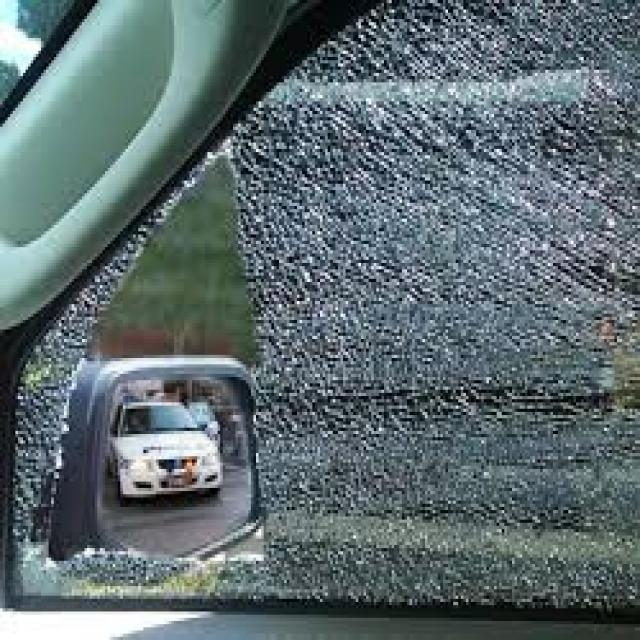damaged-window: (3, 0, 640, 604)
